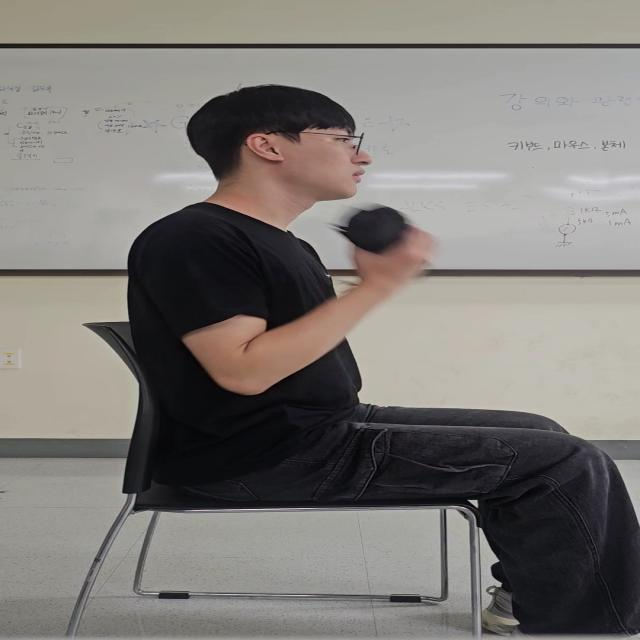curl: (143, 222, 441, 398)
